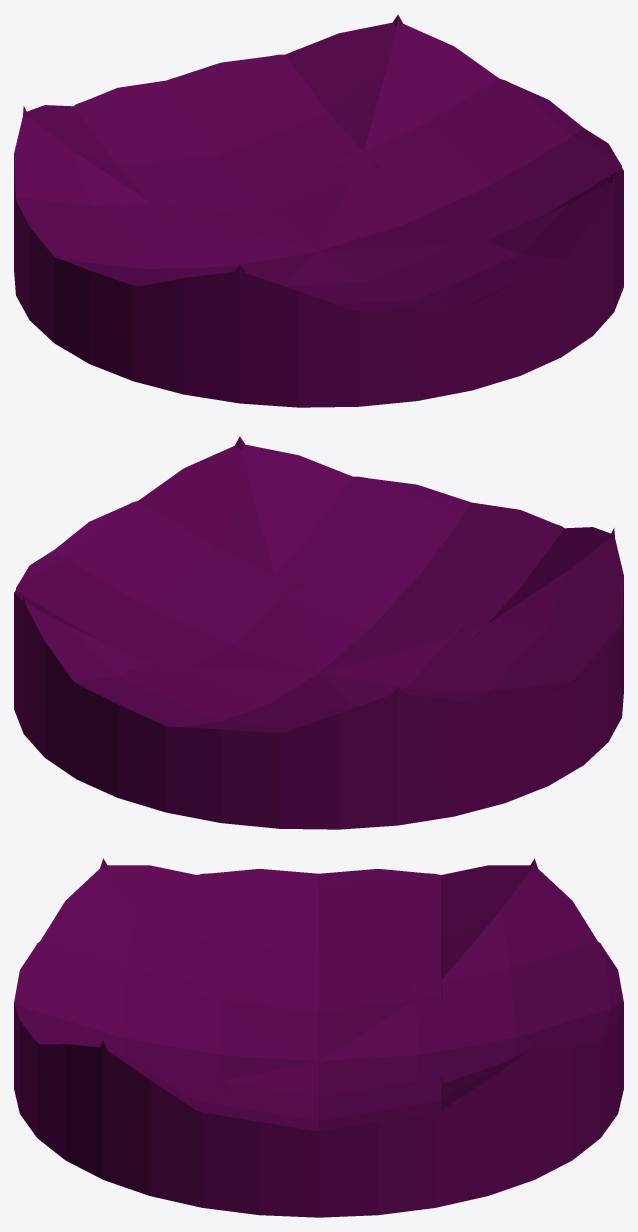
The model's file is pit.dae.
3 views of the same model, one above another, from view 1: azimuth 30°, elevation 25°; view 2: azimuth 150°, elevation 25°; view 3: azimuth 270°, elevation 25° (orthographic).
Parts seen in each view (by area): view 1: Pit; view 2: Pit; view 3: Pit.
Boxes of the visible parts, x1=… form: Pit: x1=14, y1=14, x2=623, y2=407; Pit: x1=14, y1=436, x2=623, y2=829; Pit: x1=14, y1=858, x2=623, y2=1217.
Bounding box in the file's own units: 1000 × 1000 × 252.
